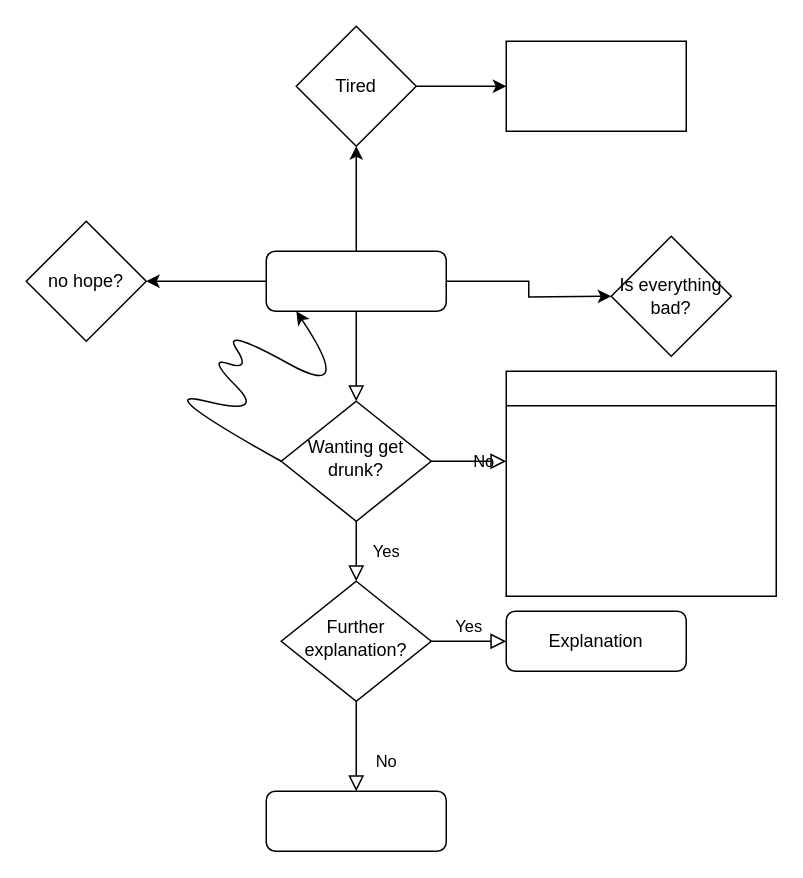
The diagram is 803 pixels wide and 878 high, and some of its shapes have lost their labels. Each missing label, with the box of its shape:
Bad mood: (265, 250, 446, 311)
Repair Lamp: (265, 790, 446, 851)
Vertical Container: (505, 370, 776, 596)
